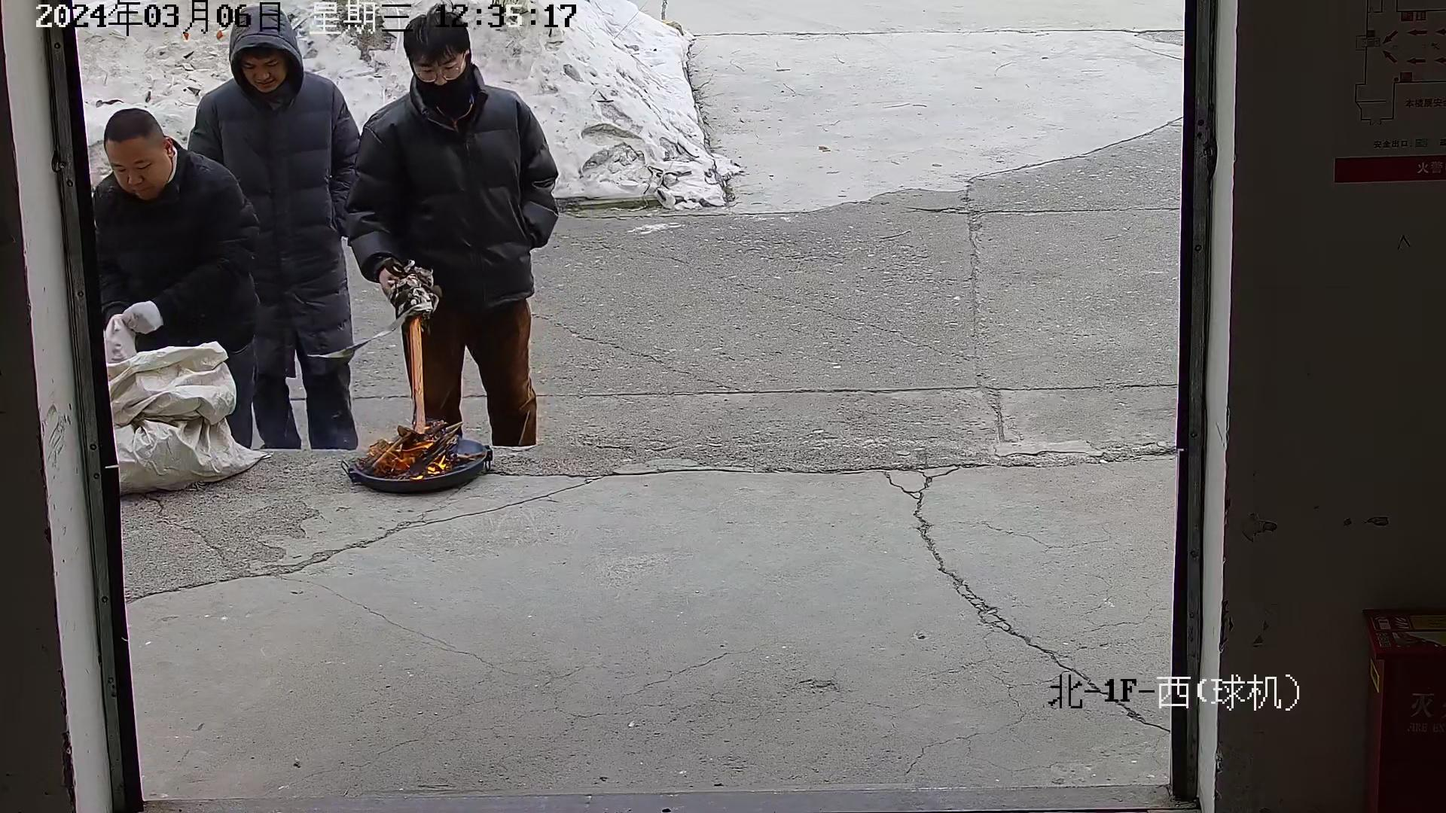fire: (357, 422, 460, 479)
